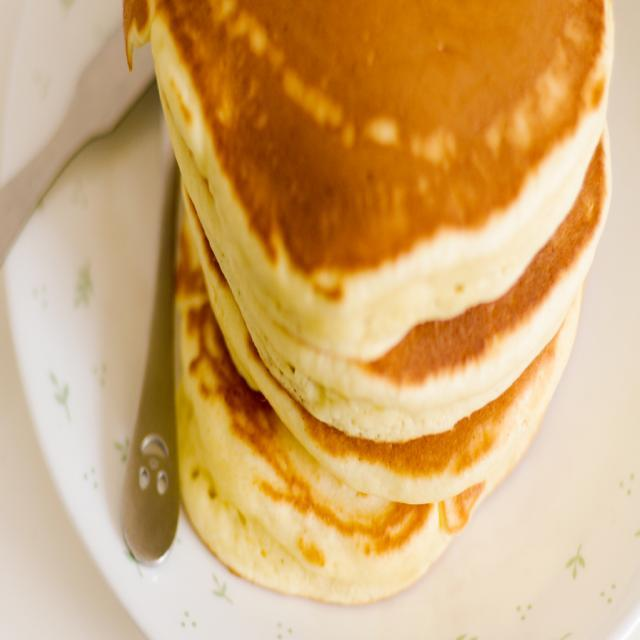Pancake: (151, 0, 603, 609)
